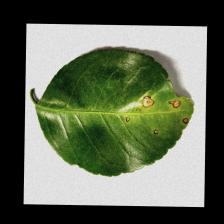canker: (108, 77, 196, 148)
